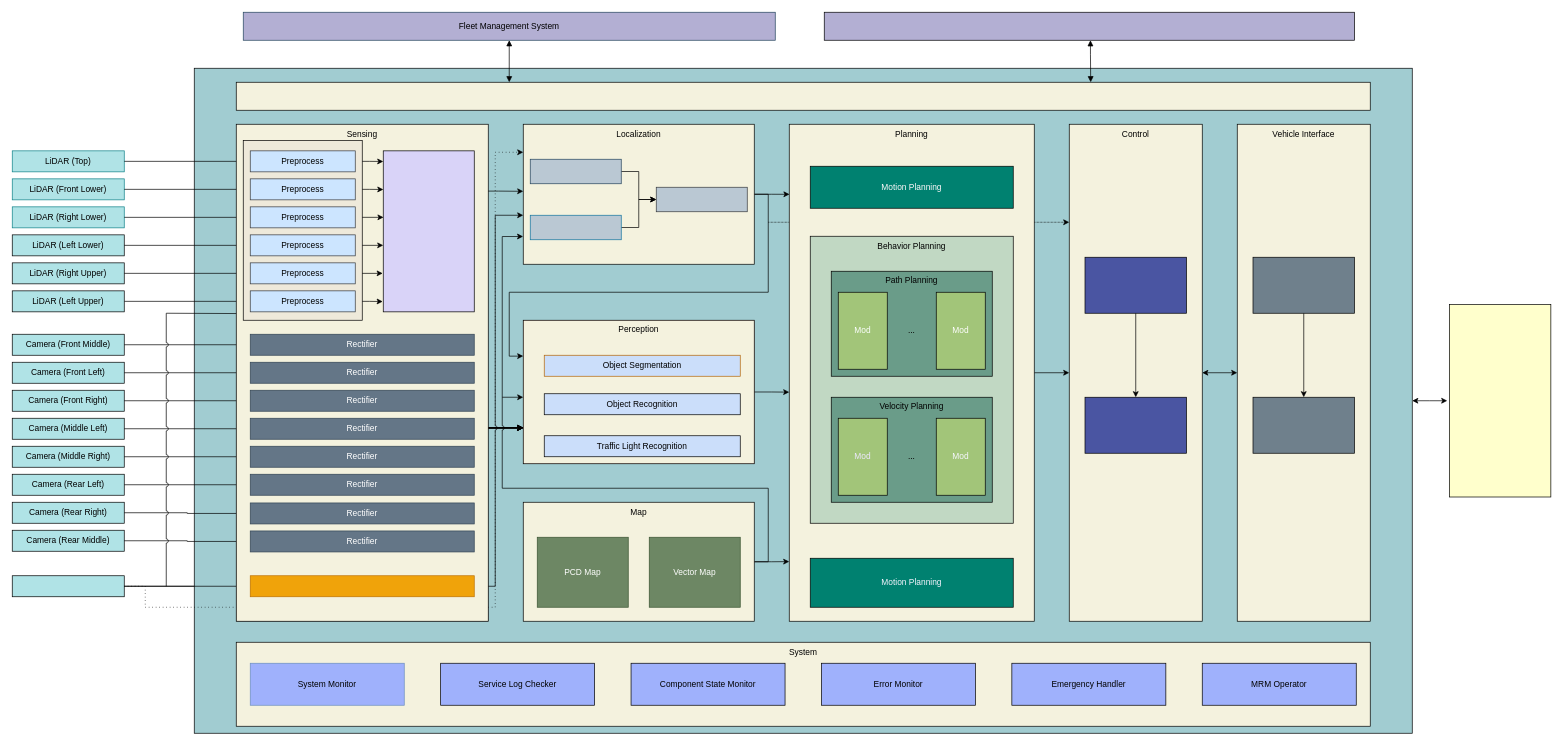
This 1563x746 diagram has some shape labels left out. Here are the shapes that lost their labels. From the top down, the centre of each, then its label:
[1089,26]: HMI
[803,96]: AD API
[575,171]: Pose Estimator
[701,199]: Fusion Filter
[428,231]: Concat
[575,227]: Twist Estimator
[1135,285]: Trajectory Follower
[1303,285]: Command Converter
[1500,400]: AV Control ECU
[1135,425]: Control Command Gate
[1303,425]: Leo Vehicle Interface
[68,586]: GNSS/INS System
[362,586]: GNSS Poser
